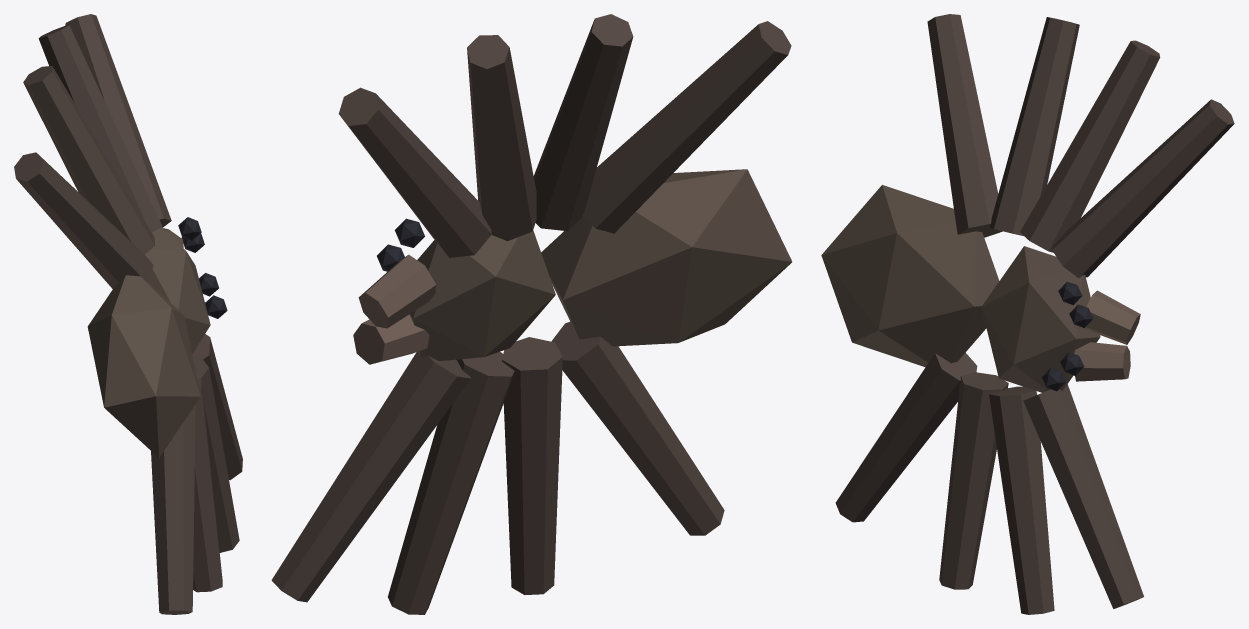
3 views of the same model, side by side, from view 1: azimuth 30°, elevation 25°; view 2: azimuth 150°, elevation 25°; view 3: azimuth 270°, elevation 25° (orthographic). The views are drawn at different scales.
Parts seen in each view (by area): view 1: part1, part12, part15, part14, part10, part8, part13, part0, part11, part9, part4, part5 (+1 smaller); view 2: part1, part9, part14, part11, part13, part0, part15, part12, part10, part8, part6, part7; view 3: part1, part0, part8, part9, part10, part11, part14, part12, part13, part15, part7, part6.
Part boxes in pixels (x1,y1,x2,y2): part1: (87, 275, 200, 457); part12: (23, 66, 154, 254); part15: (151, 405, 195, 614); part14: (14, 152, 153, 288); part10: (38, 25, 162, 232); part8: (65, 14, 171, 227); part13: (193, 378, 222, 592); part0: (145, 227, 210, 353); part11: (193, 356, 239, 552); part9: (192, 334, 242, 480); part4: (178, 217, 201, 240); part5: (205, 295, 227, 318); part1: (541, 169, 792, 346); part9: (271, 352, 470, 602); part14: (583, 21, 791, 233); part11: (388, 351, 514, 614); part13: (502, 337, 562, 594); part0: (409, 230, 555, 360); part15: (551, 322, 724, 535); part12: (533, 14, 633, 231); part10: (467, 35, 536, 241); part8: (338, 87, 491, 257); part6: (358, 254, 436, 328); part7: (353, 314, 429, 364); part1: (821, 185, 999, 367); part0: (981, 246, 1100, 392); part8: (1052, 99, 1234, 277); part9: (1023, 384, 1143, 608); part10: (1020, 40, 1160, 252); part11: (989, 386, 1054, 614); part14: (927, 14, 1002, 237); part12: (989, 17, 1079, 235); part13: (939, 372, 1008, 589); part15: (835, 352, 977, 522); part7: (1074, 342, 1130, 381); part6: (1085, 290, 1140, 344).
Size of the model in its own units: 7.09 by 11.02 by 7.98.
